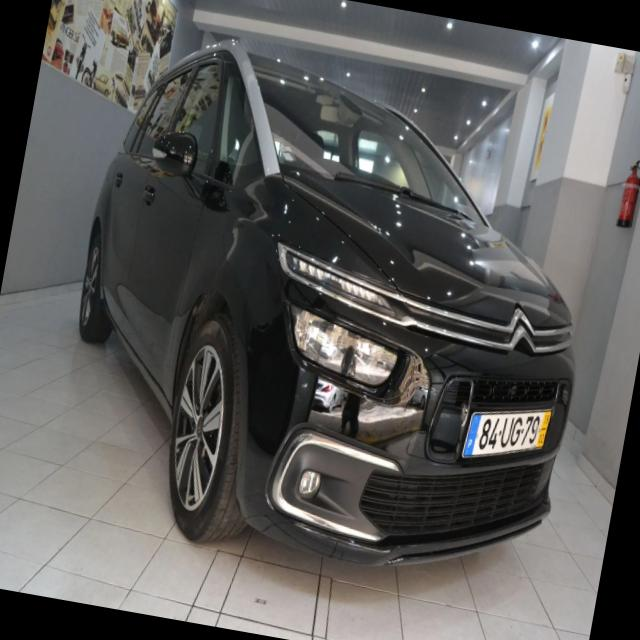portuguese-license-plates: (455, 404, 556, 465)
